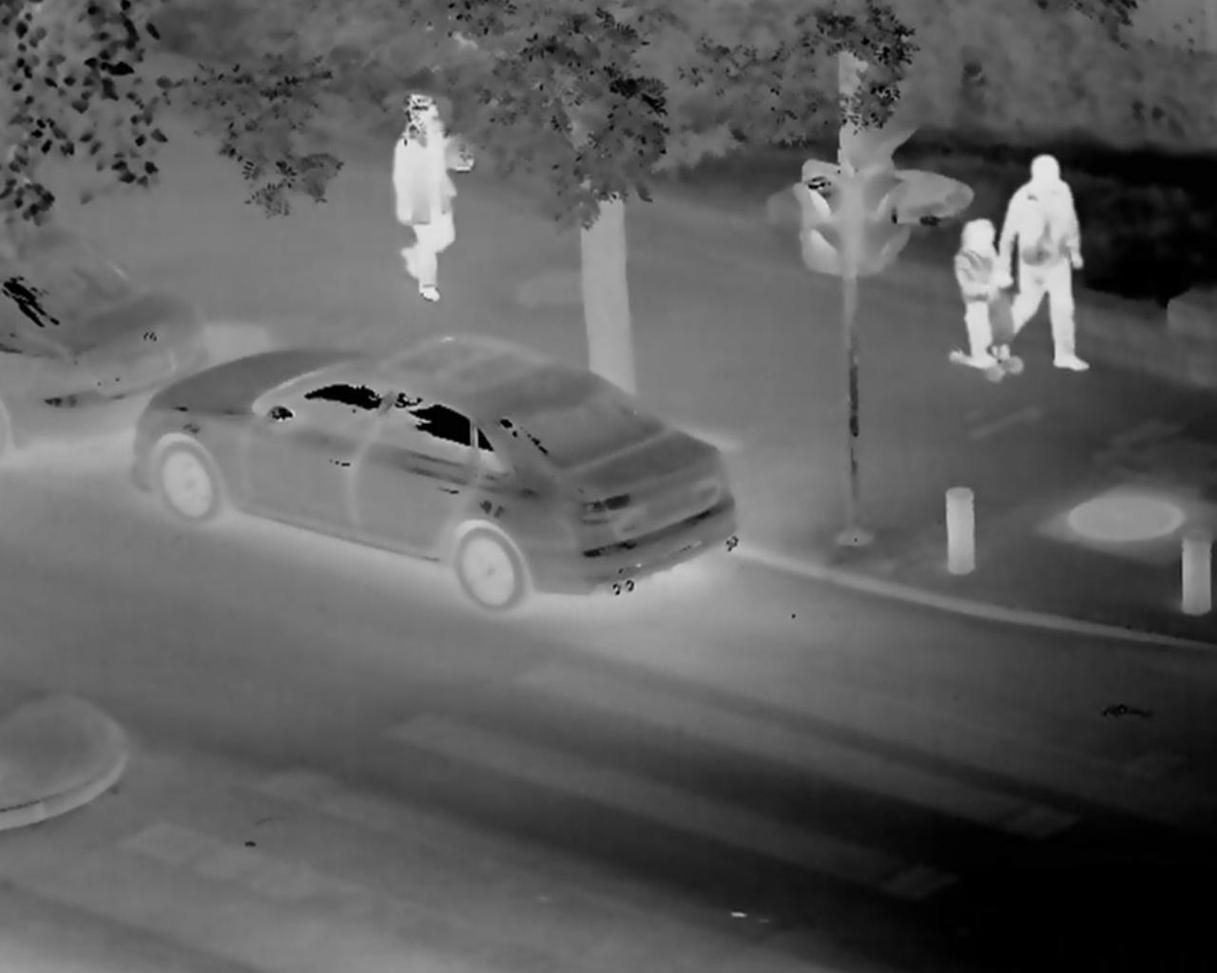person: (368, 82, 482, 318), (989, 157, 1096, 386), (942, 202, 1025, 385)
